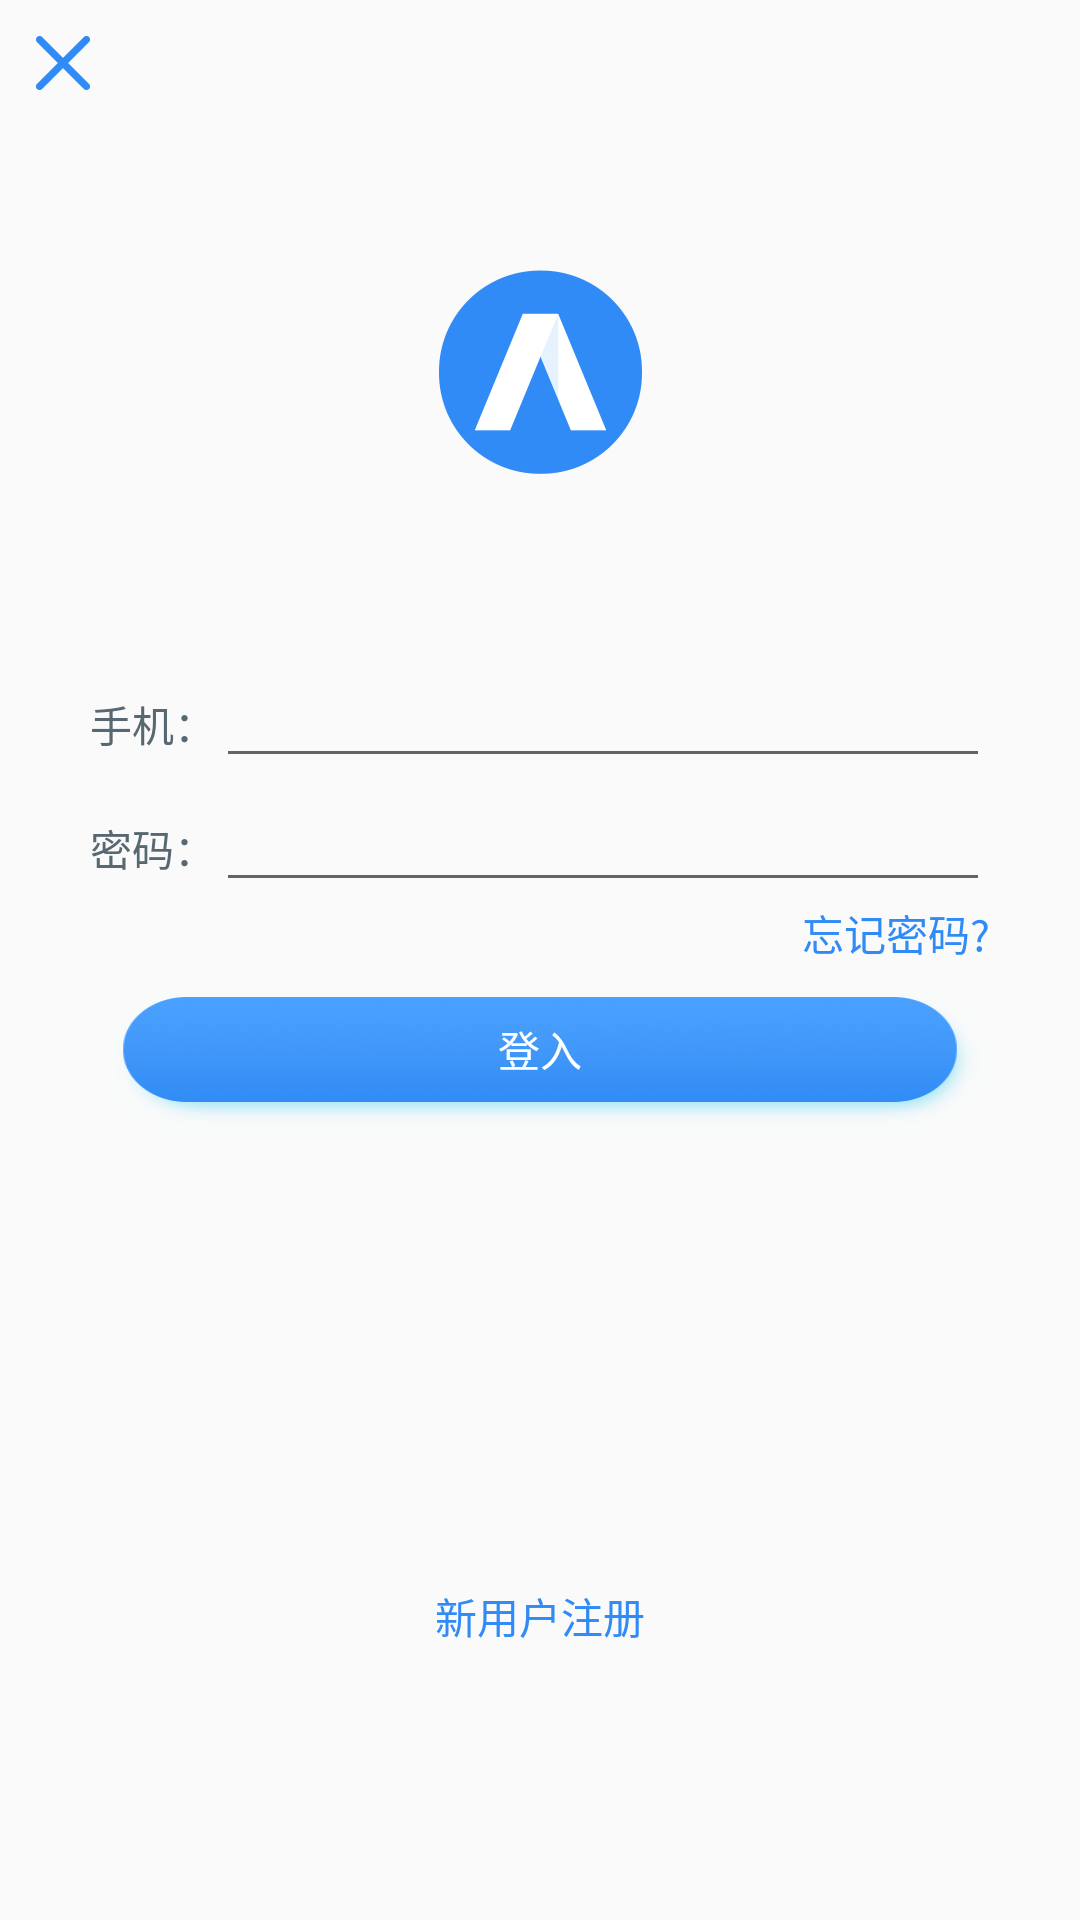

Point at icon controls on the screen. Image size 1080×1920, points as (x=x, y=y).
close: (x=63, y=63)
